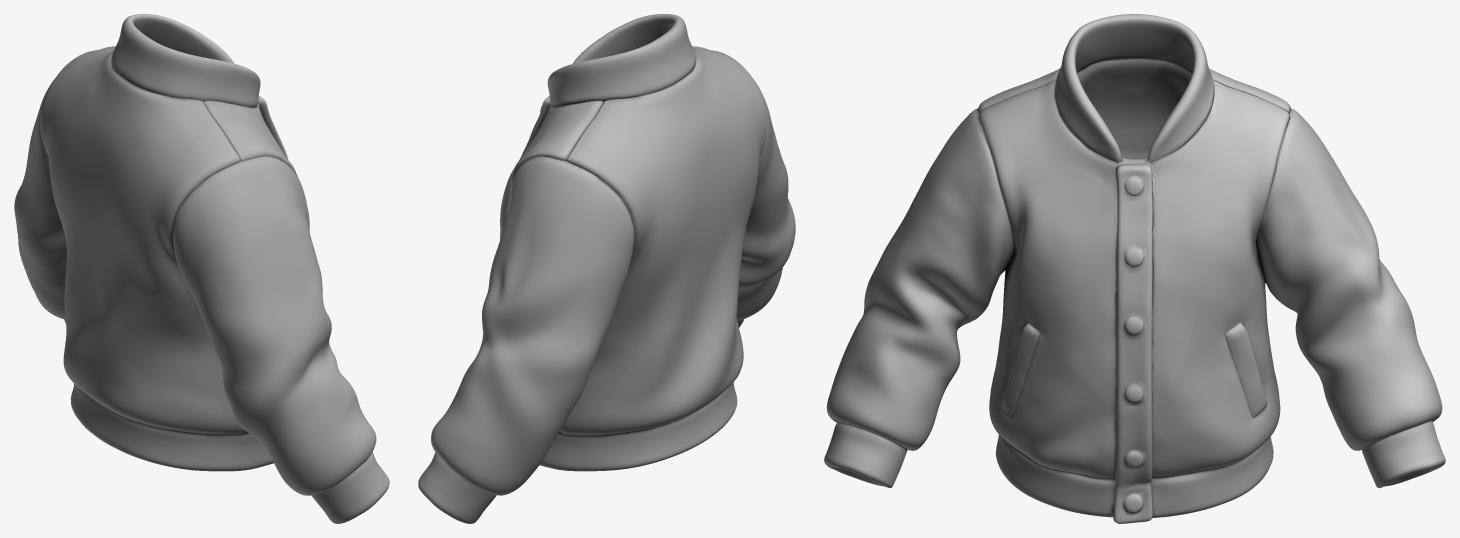
File: jacket.fbx
3 views of the same model, side by side, from view 1: azimuth 30°, elevation 25°; view 2: azimuth 150°, elevation 25°; view 3: azimuth 270°, elevation 25° (orthographic). The views are drawn at different scales.
Parts seen in each view (by area): view 1: tripo_node_a37ce461; view 2: tripo_node_a37ce461; view 3: tripo_node_a37ce461.
Boxes of the visible parts, x1,y1,x2,y2 form: tripo_node_a37ce461: (14,14,389,523); tripo_node_a37ce461: (418,14,795,523); tripo_node_a37ce461: (824,14,1445,523).
Size of the model in its own units: 41.46 by 75.9 by 97.94.
Materials: 1 (1 with a texture image).
